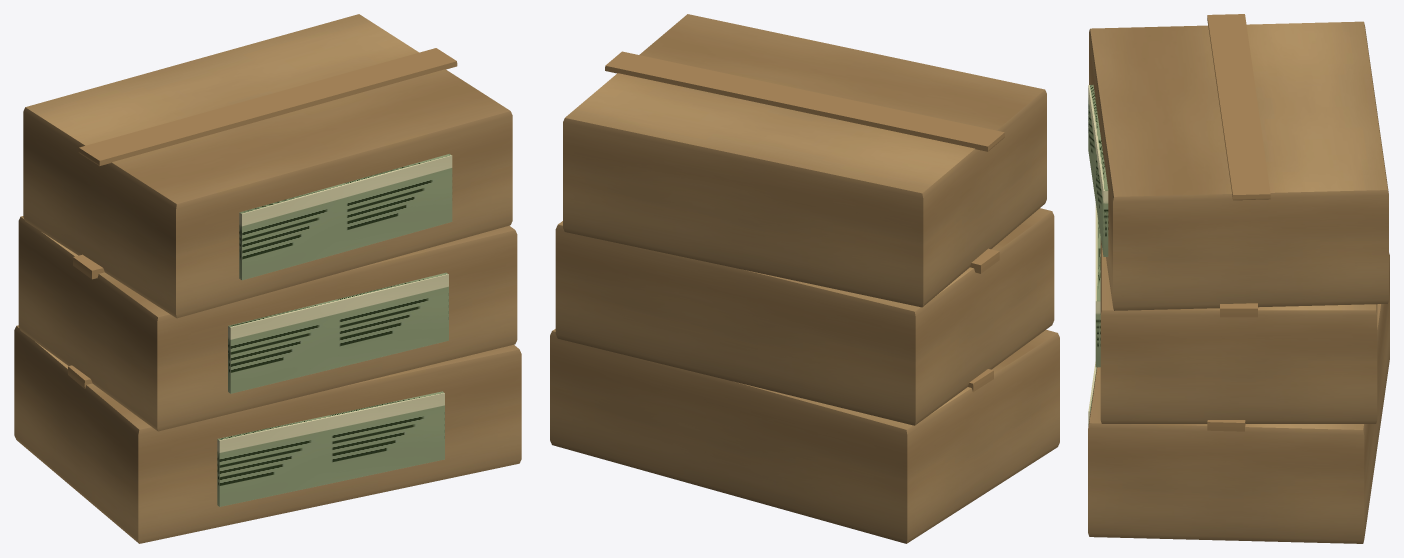
The model's file is ration_ration_boxes_stacked.glb.
The picture shows the model from 3 angles, left to right: view 1: azimuth 30°, elevation 25°; view 2: azimuth 150°, elevation 25°; view 3: azimuth 270°, elevation 25°; orthographic projection.
Parts seen in each view (by area): view 1: ration_ration_boxes_stacked; view 2: ration_ration_boxes_stacked; view 3: ration_ration_boxes_stacked.
Part boxes in pixels (x1,y1,x2,y2): ration_ration_boxes_stacked: (14, 14, 521, 543); ration_ration_boxes_stacked: (550, 14, 1059, 543); ration_ration_boxes_stacked: (1088, 14, 1389, 543).
Bounding box in the file's own units: 0.3526 × 0.3041 × 0.24.
3 materials, 2 textured.
